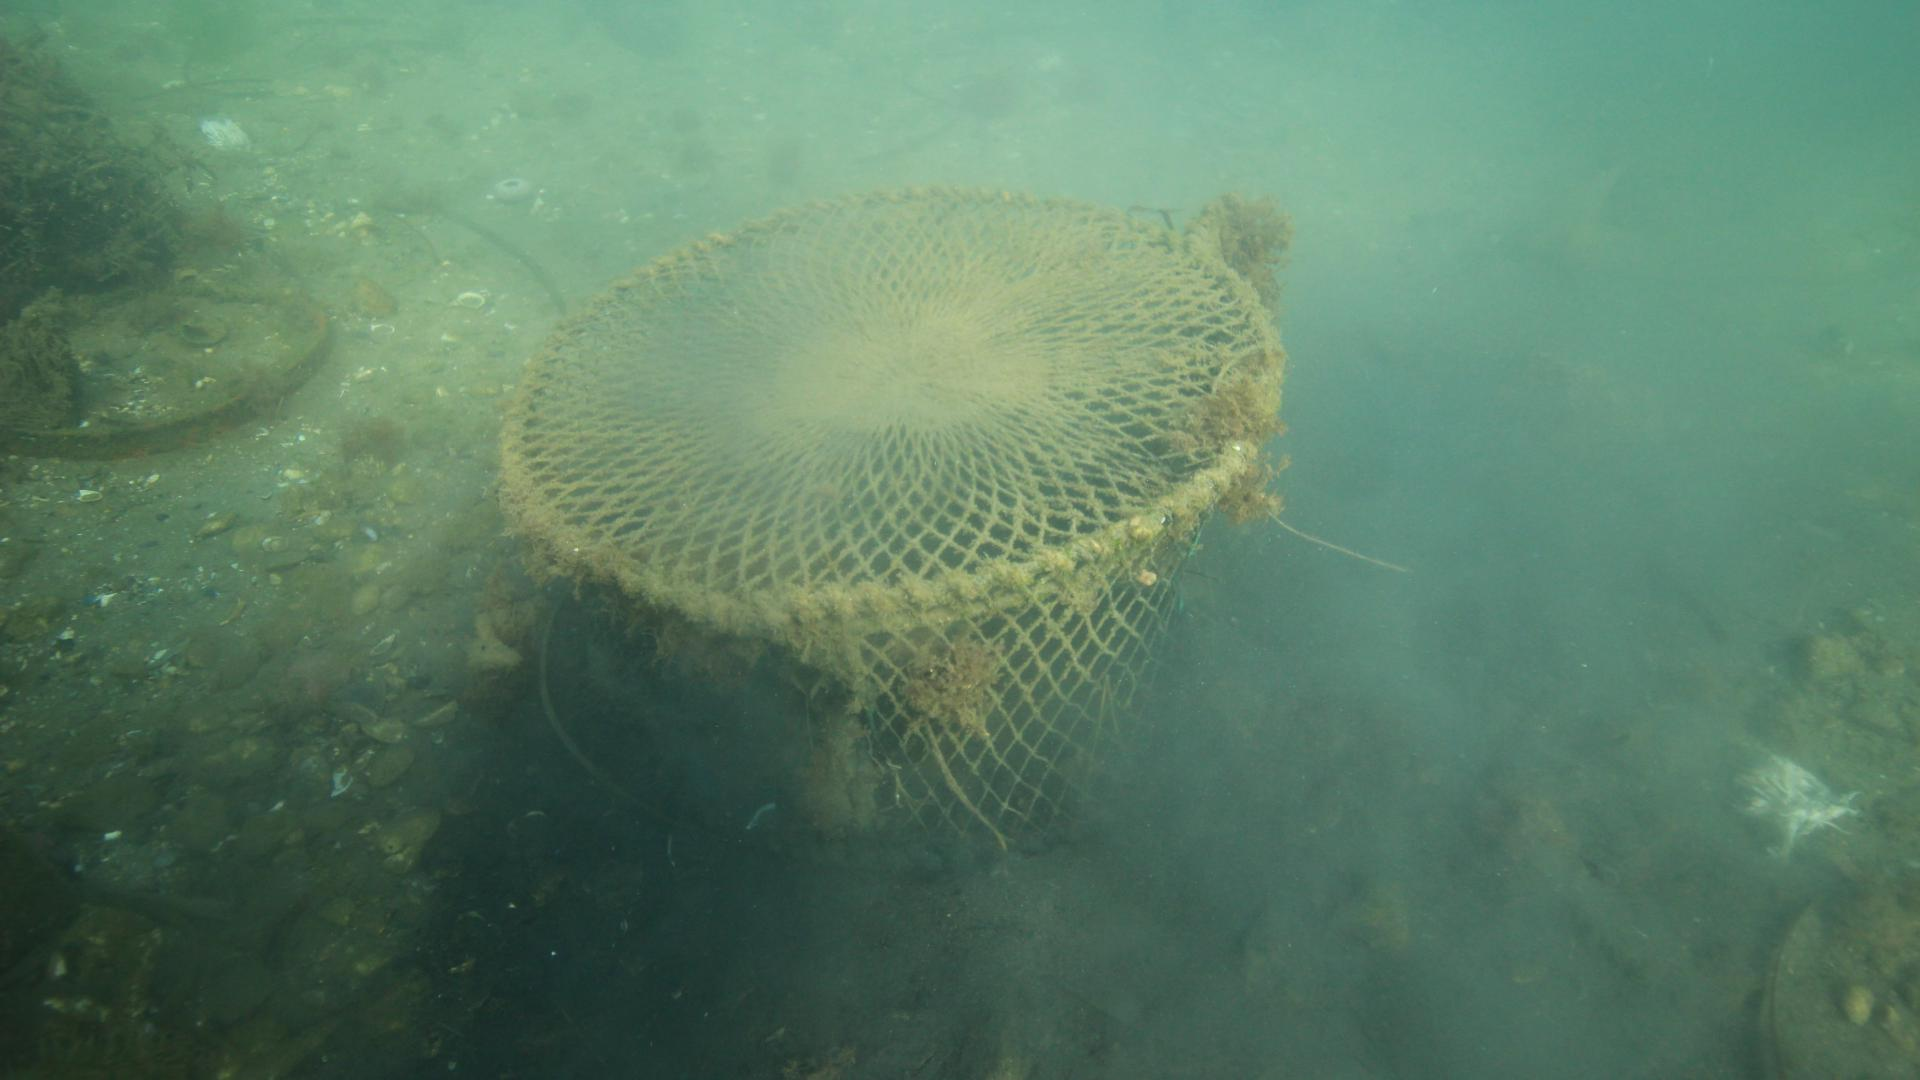circular fish trap: (497, 185, 1287, 868)
